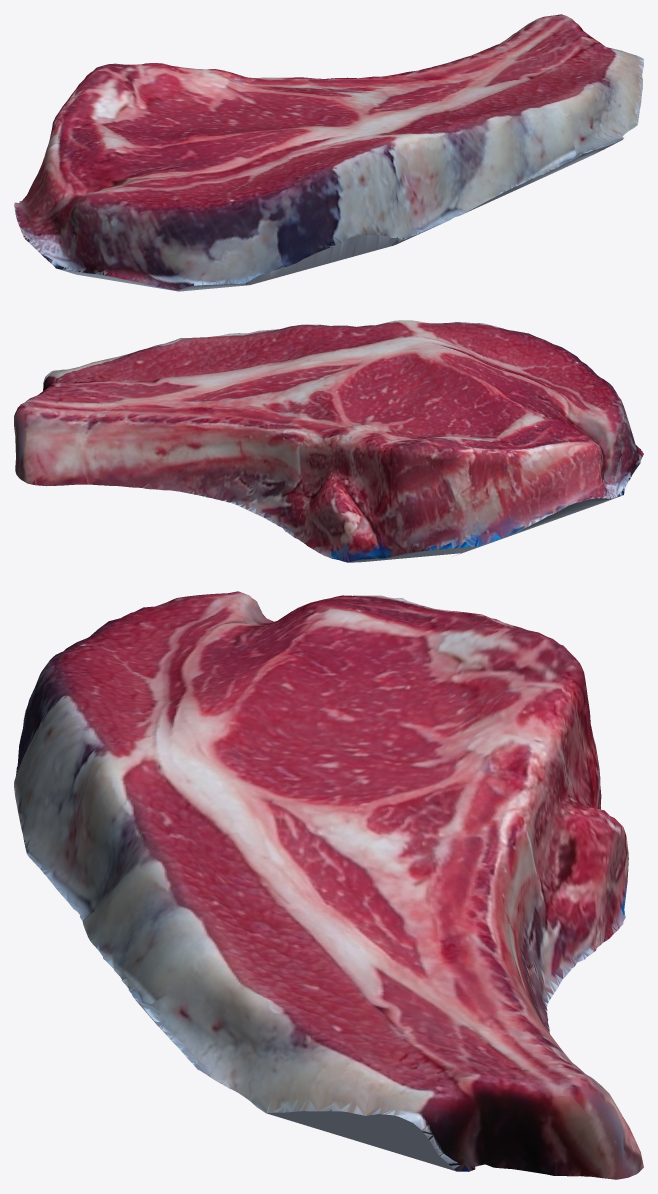
The model's file is braised-beef.glb.
The picture shows the model from 3 angles, top to bottom: view 1: azimuth 30°, elevation 25°; view 2: azimuth 150°, elevation 25°; view 3: azimuth 270°, elevation 25°; orthographic projection. The views are drawn at different scales.
Visible parts, largest first — view 1: Object_2; view 2: Object_2; view 3: Object_2.
Boxes of the visible parts, x1=… form: Object_2: x1=14, y1=14, x2=643, y2=291; Object_2: x1=14, y1=320, x2=643, y2=562; Object_2: x1=14, y1=591, x2=643, y2=1179.
Size of the model in its own units: 0.2 by 0.0427 by 0.1126.
Materials: 1 (1 with a texture image).
